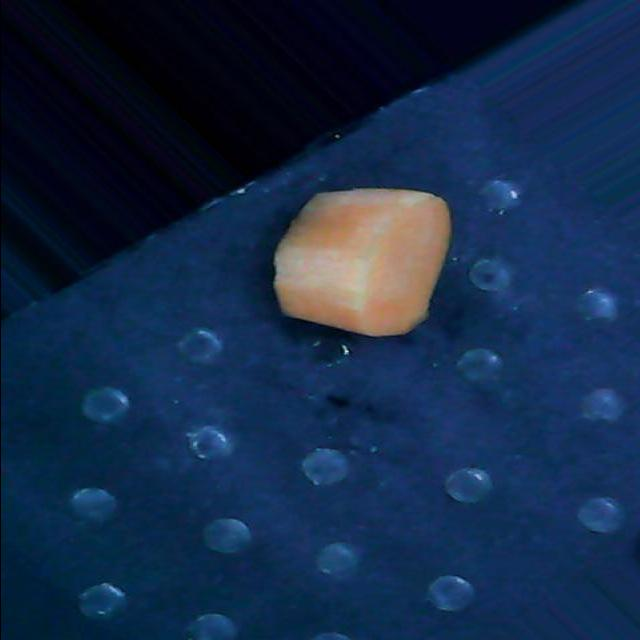-Kitchen waste - carrot-: (274, 186, 453, 336)
